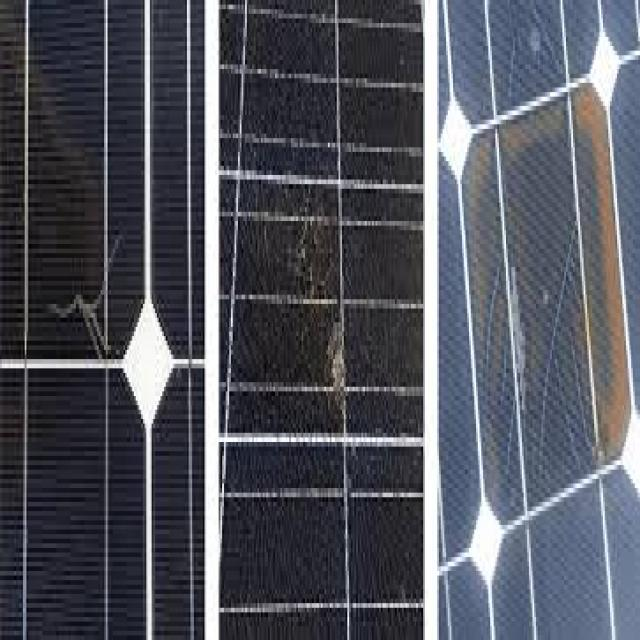faulty: (217, 4, 427, 640), (0, 0, 204, 640), (439, 0, 640, 640)
